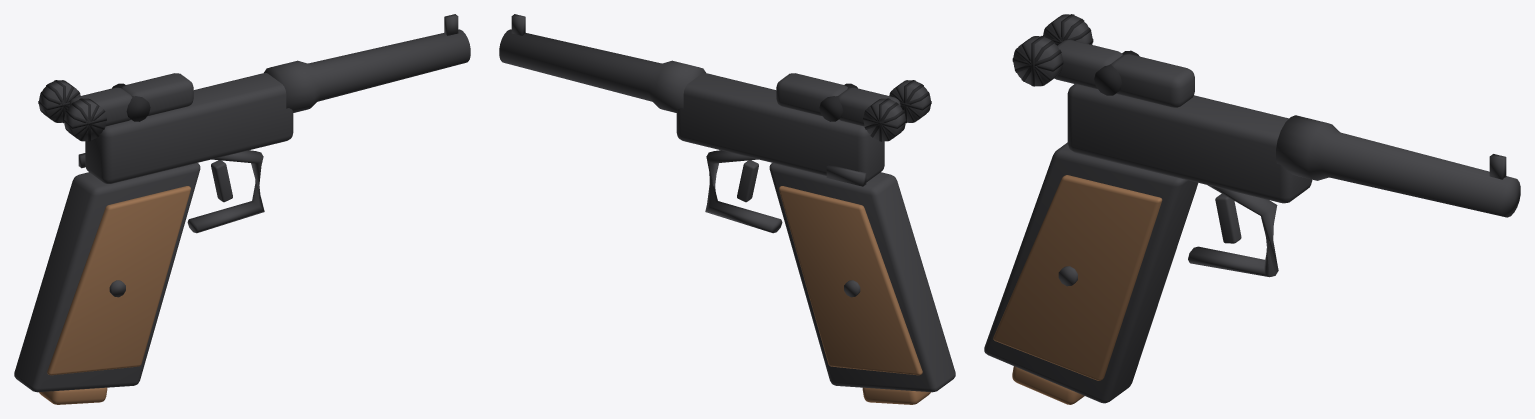
File: SM_Luger.glb
3 renders of one model, left to right at view 1: azimuth 30°, elevation 25°; view 2: azimuth 150°, elevation 25°; view 3: azimuth 330°, elevation 25°, orthographic. The views are drawn at different scales.
Parts seen in each view (by area): view 1: SM_Luger; view 2: SM_Luger; view 3: SM_Luger.
Part boxes in pixels (bbox=[...]): SM_Luger: bbox=[14, 14, 470, 404]; SM_Luger: bbox=[499, 14, 955, 404]; SM_Luger: bbox=[984, 14, 1520, 404].
Size of the model in its own units: 0.2431 by 0.1625 by 0.0329.
